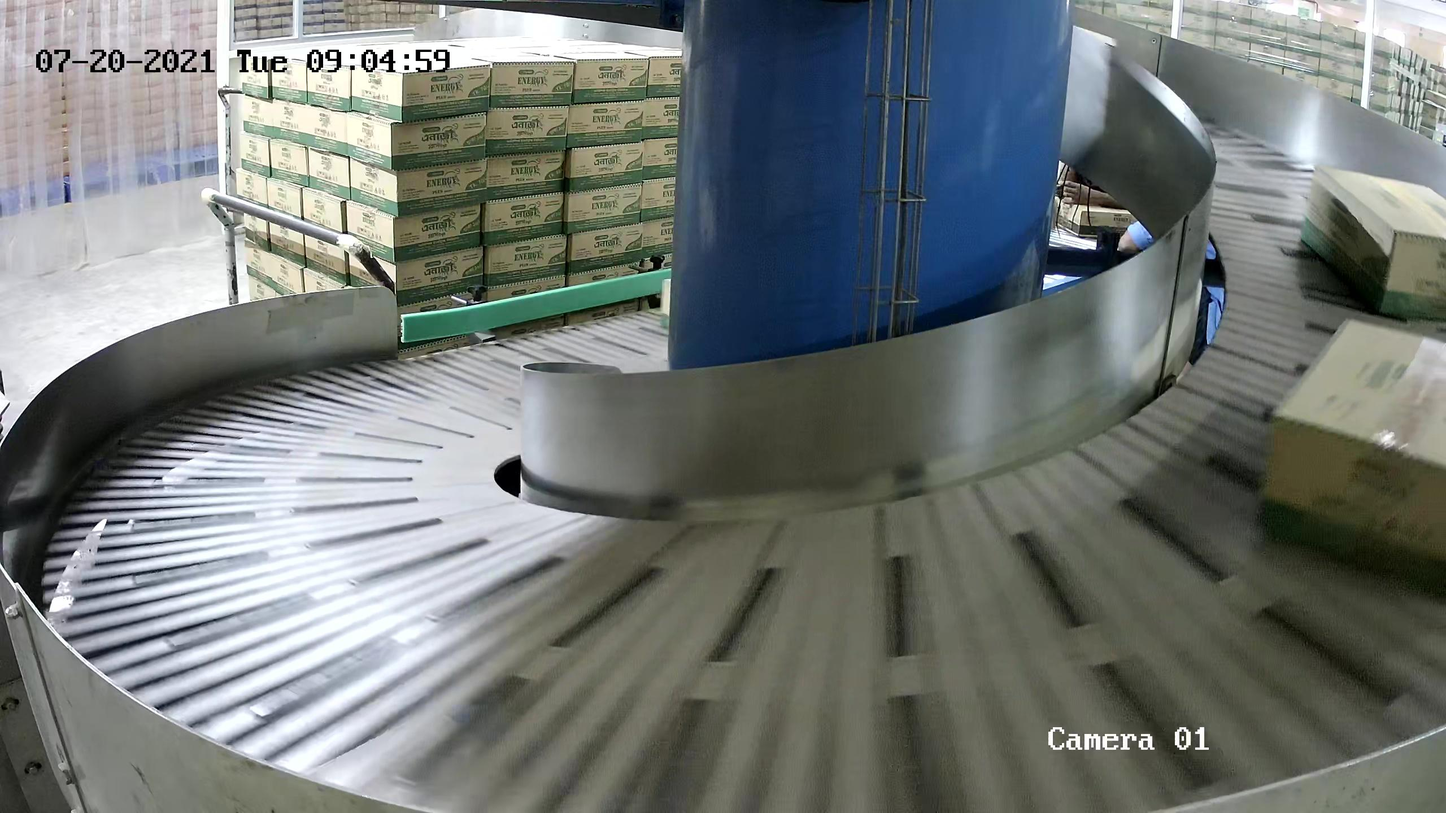Box: (1259, 314, 1446, 590), (1298, 162, 1446, 317)
